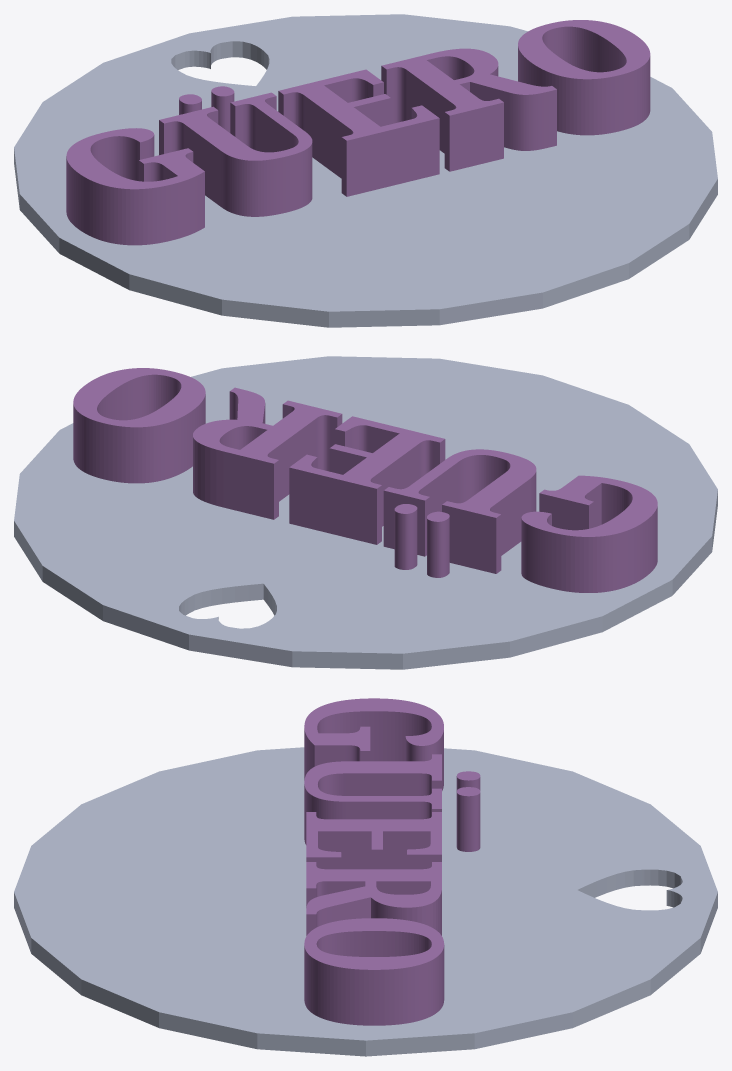
File: asset.glb
3 views of the same model, one above another, from view 1: azimuth 30°, elevation 25°; view 2: azimuth 150°, elevation 25°; view 3: azimuth 270°, elevation 25° (orthographic).
Parts seen in each view (by area): view 1: Mesh_Mesh_head_geo.001_lambert2SG.001; view 2: Mesh_Mesh_head_geo.001_lambert2SG.001; view 3: Mesh_Mesh_head_geo.001_lambert2SG.001.
Part boxes in pixels (<box>): Mesh_Mesh_head_geo.001_lambert2SG.001: <box>14,14,717,327</box>; Mesh_Mesh_head_geo.001_lambert2SG.001: <box>14,356,717,669</box>; Mesh_Mesh_head_geo.001_lambert2SG.001: <box>14,698,717,1056</box>.
Size of the model in its own units: 80 by 10 by 80.
